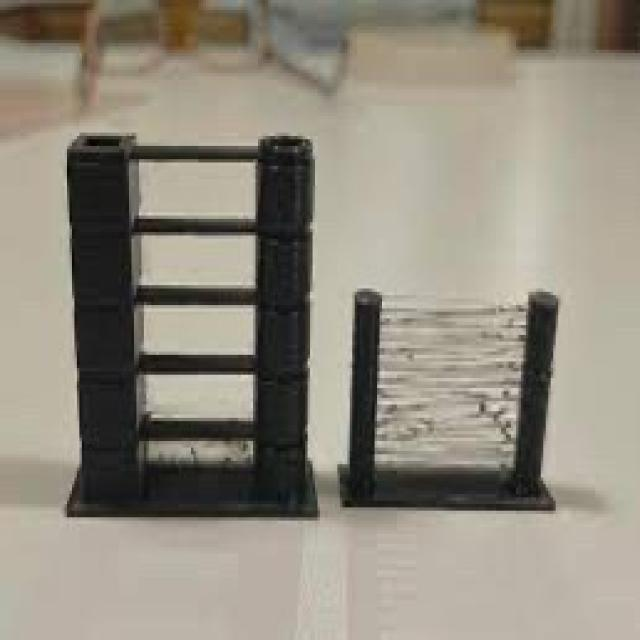stringing: (384, 296, 509, 465)
